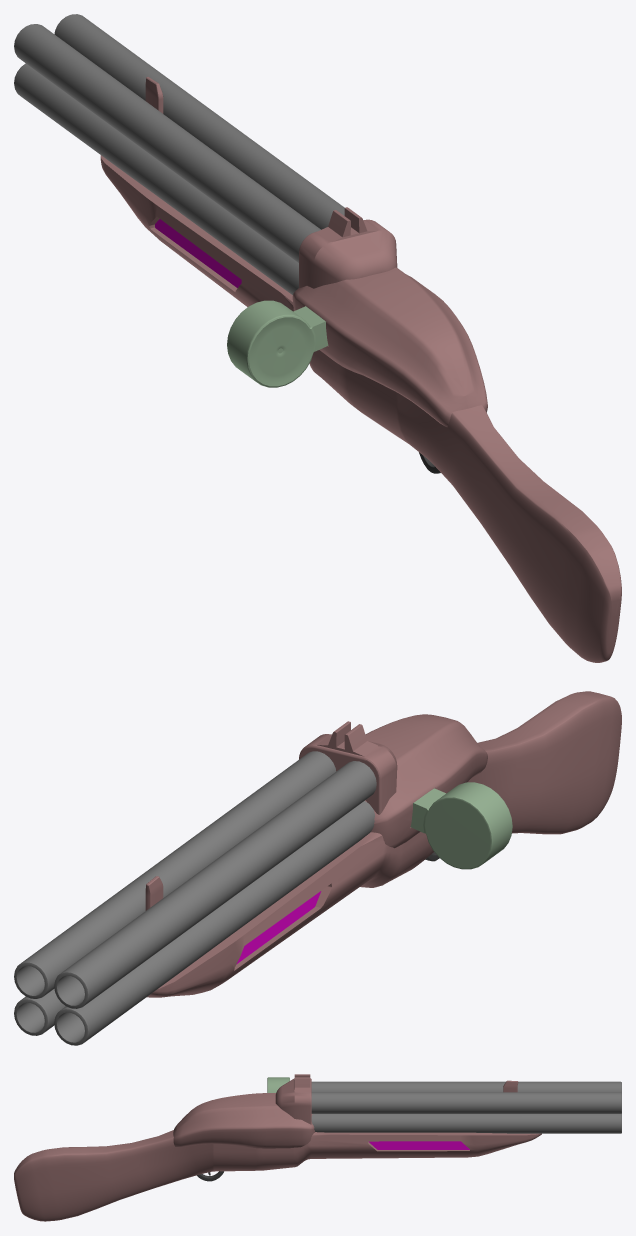
File: Shottie.fbx
3 renders of one model, top to bottom at view 1: azimuth 30°, elevation 25°; view 2: azimuth 150°, elevation 25°; view 3: azimuth 270°, elevation 25°, orthographic. The views are drawn at different scales.
Visible parts, largest first — view 1: Body, Barrels, Mag; view 2: Barrels, Body, Mag; view 3: Body, Barrels, Mag.
Part boxes in pixels (<box>): Body: <box>100,77,621,662</box>; Barrels: <box>14,14,344,294</box>; Mag: <box>227,300,328,387</box>; Barrels: <box>14,751,376,1045</box>; Body: <box>145,691,621,997</box>; Mag: <box>410,782,512,869</box>; Body: <box>14,1074,541,1221</box>; Barrels: <box>311,1081,621,1133</box>; Mag: <box>267,1077,289,1092</box>.
Size of the model in its own units: 7.49 by 10.23 by 38.96.
